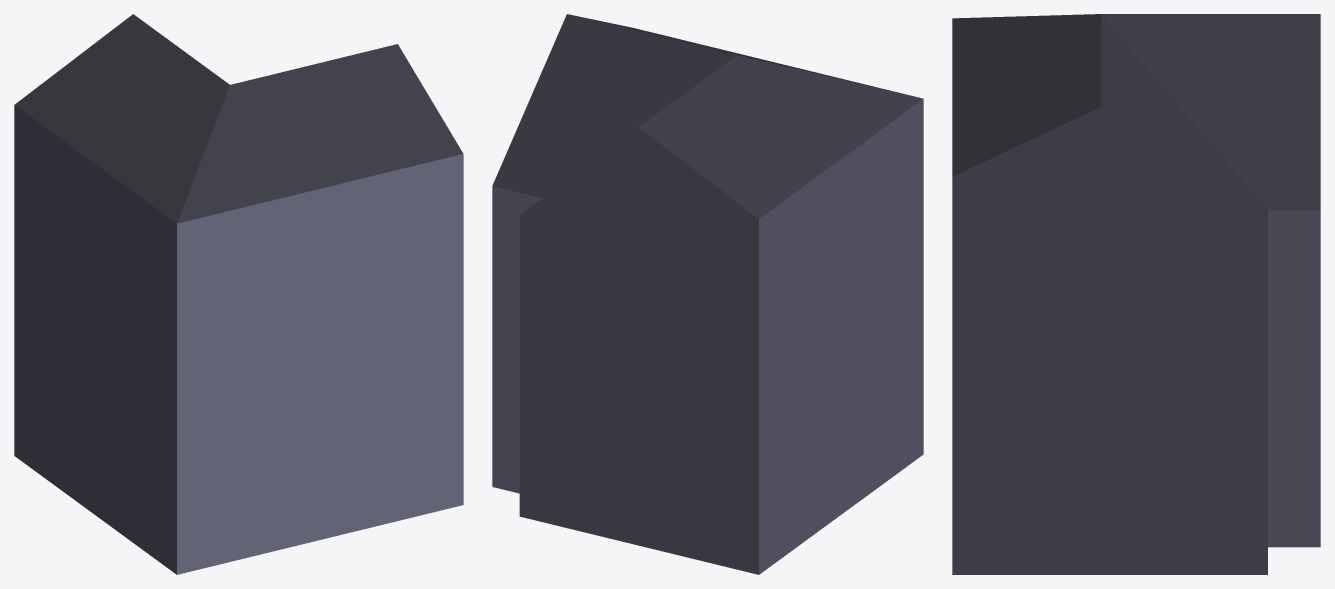
Rendered from Building_02_Corner.fbx.
The picture shows the model from 3 angles, left to right: view 1: azimuth 30°, elevation 25°; view 2: azimuth 150°, elevation 25°; view 3: azimuth 270°, elevation 25°; orthographic projection. The views are drawn at different scales.
Visible parts, largest first — view 1: Building_02_Corner; view 2: Building_02_Corner; view 3: Building_02_Corner.
Part boxes in pixels (x1,y1,x2,y2): Building_02_Corner: (14,14,463,574); Building_02_Corner: (492,14,923,574); Building_02_Corner: (952,14,1320,574).
Bounding box in the file's own units: 88.83 × 122 × 87.28.
